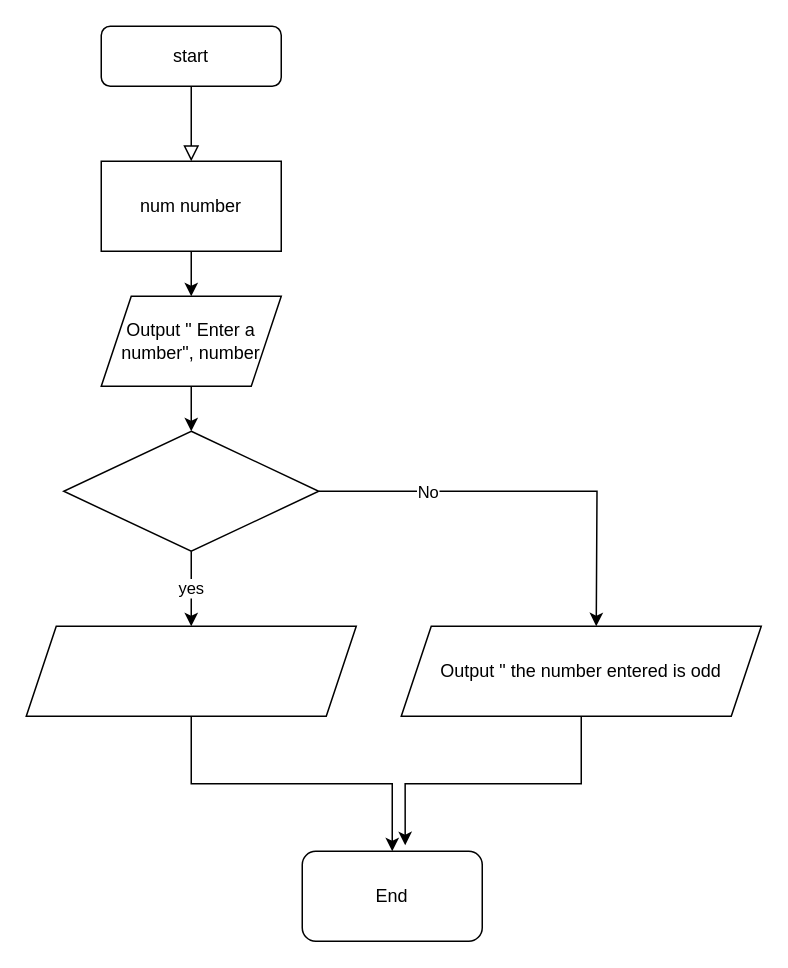
This 788x968 diagram has some shape labels left out. The shapes that lost their labels are listed below. From the top down, each one's centre as x and y in pixels, then its label:
[190,490]: number % 2 ==0
[190,670]: Output " The number you entered is even"
